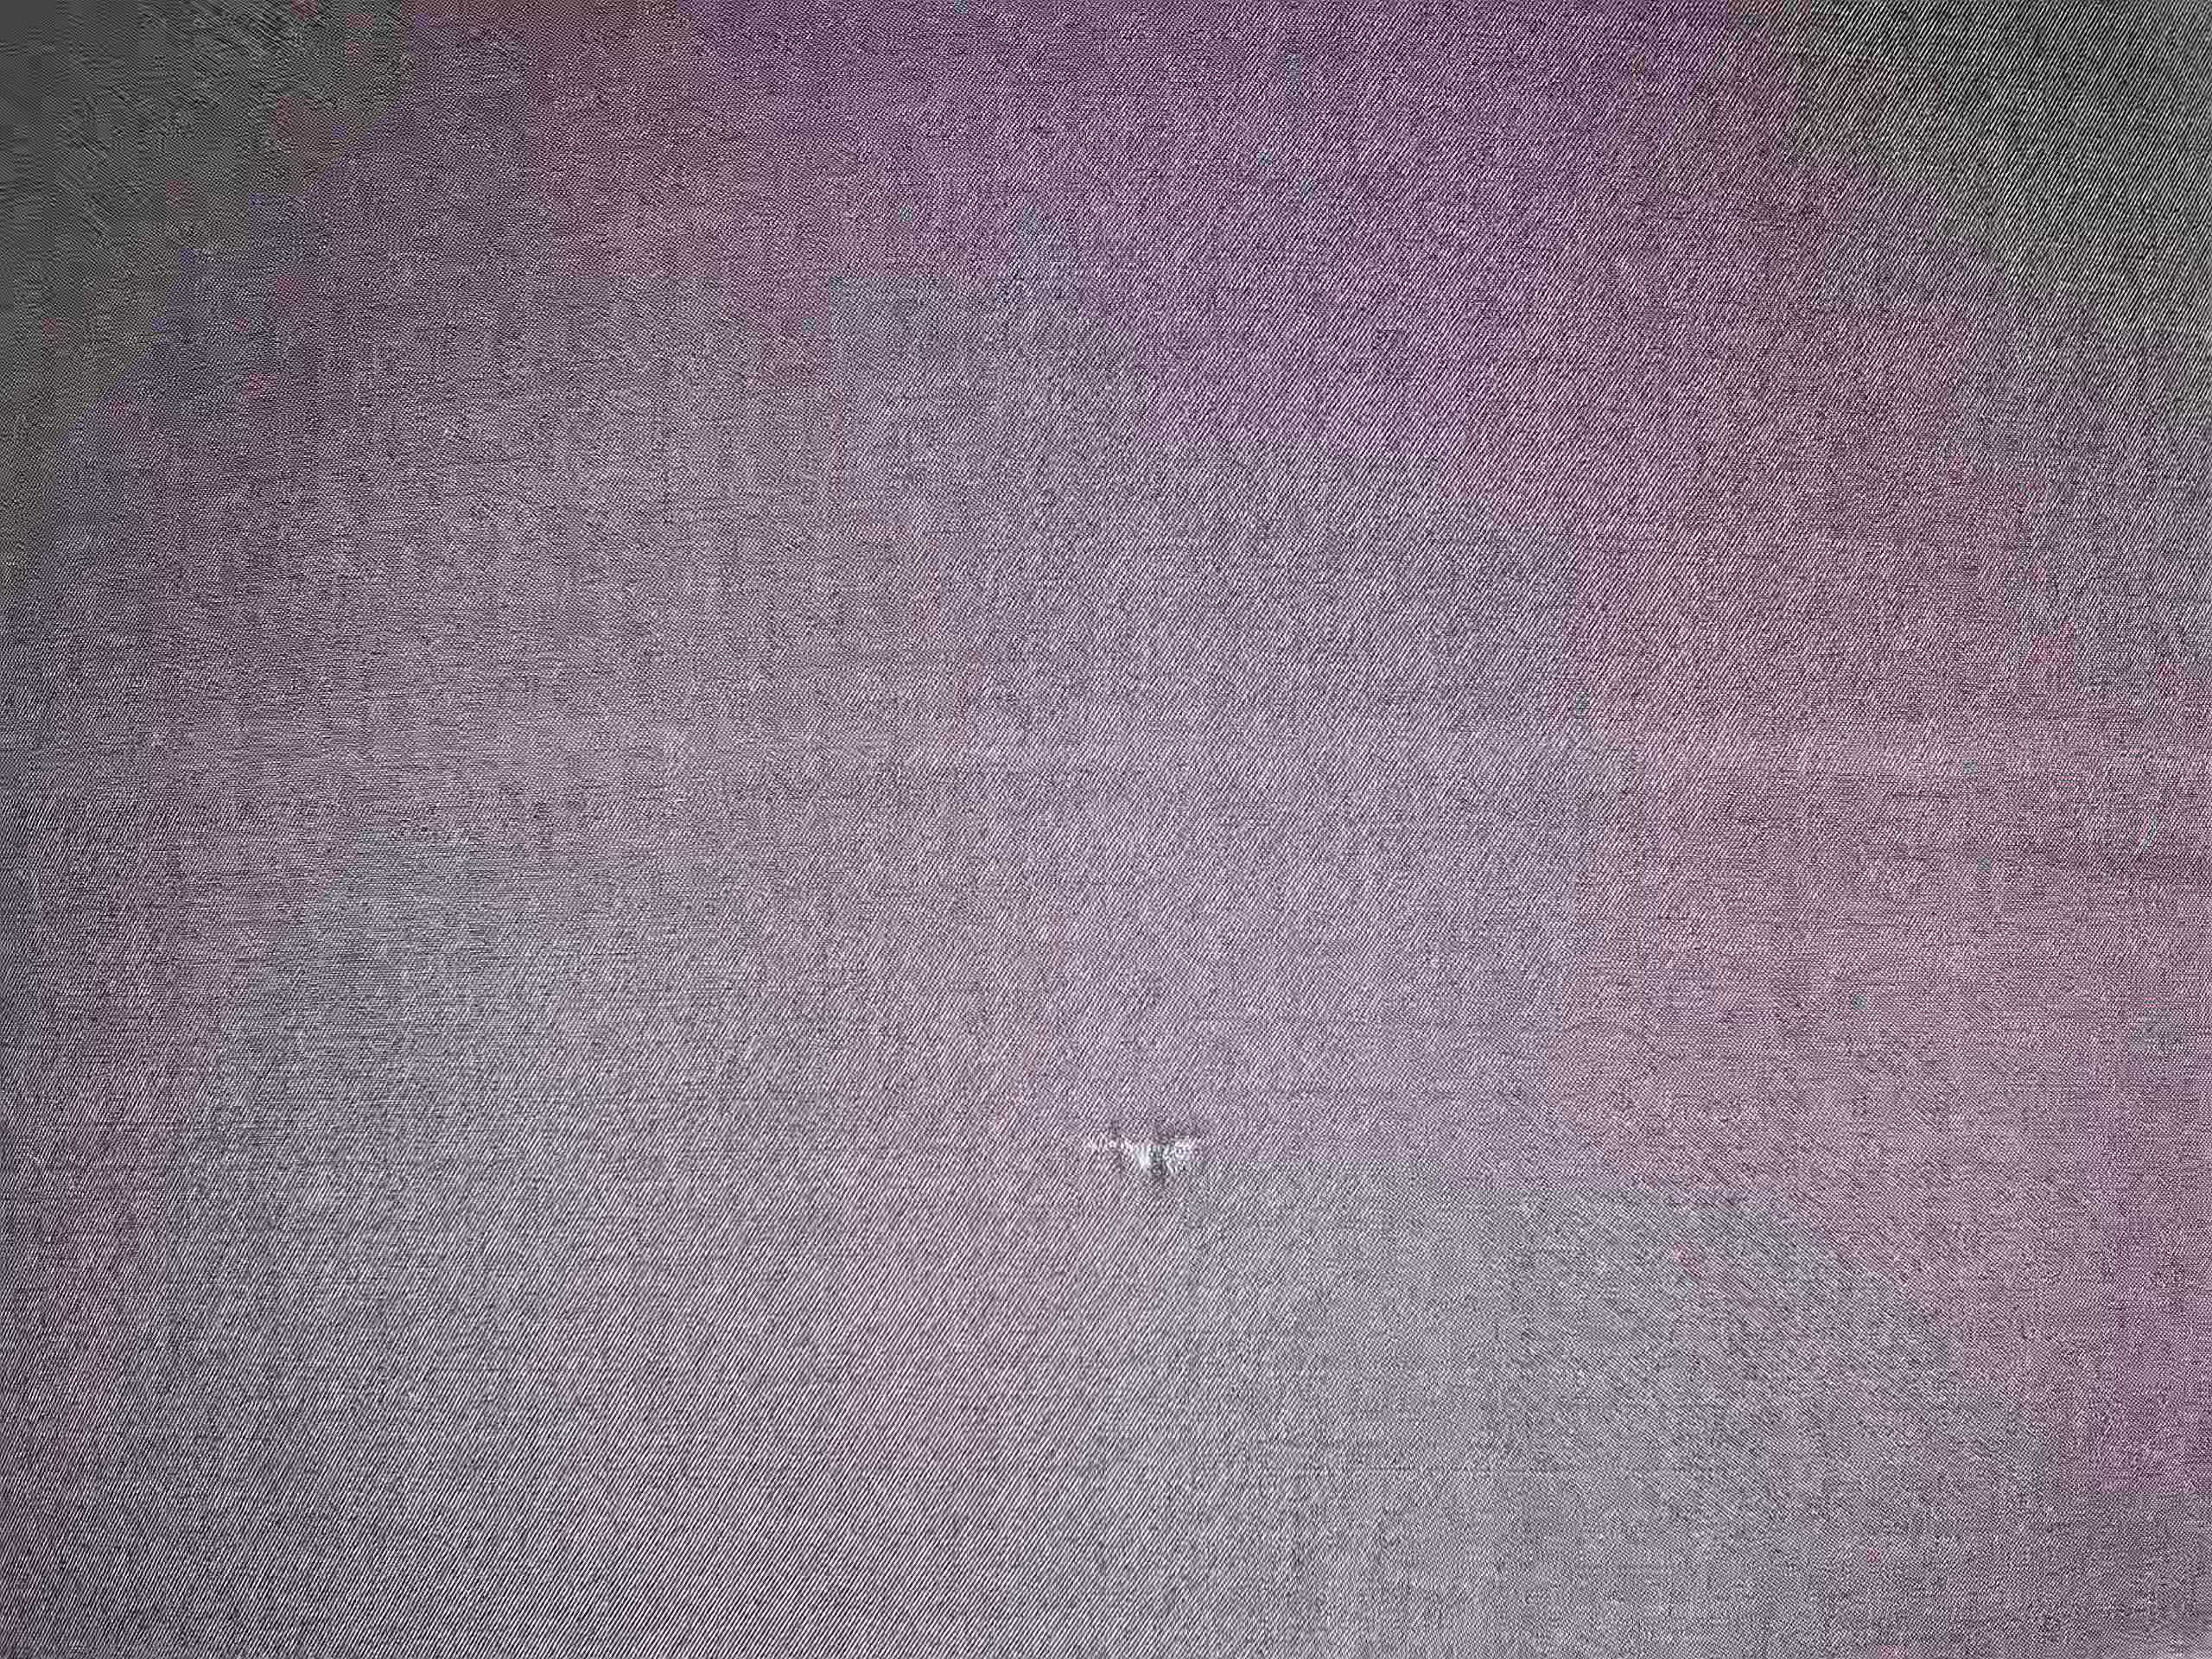knots: (1075, 1105, 1235, 1208)
